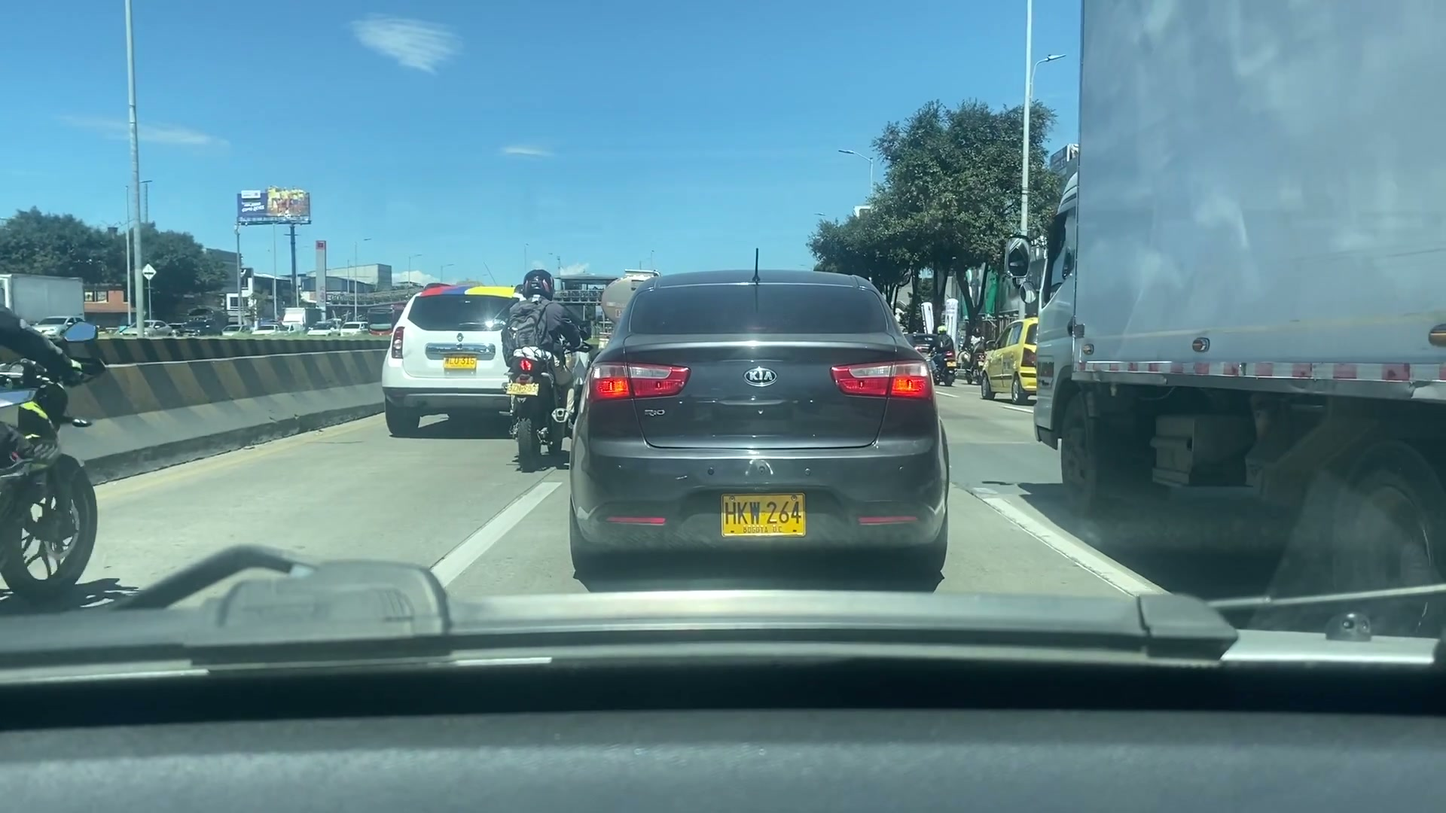car: (569, 272, 953, 579), (383, 285, 549, 436), (978, 318, 1044, 400)
motorcycle: (0, 346, 107, 608), (497, 356, 569, 465), (926, 351, 959, 389)
person: (504, 272, 580, 428), (936, 324, 953, 377)
truck: (1001, 0, 1446, 622)
